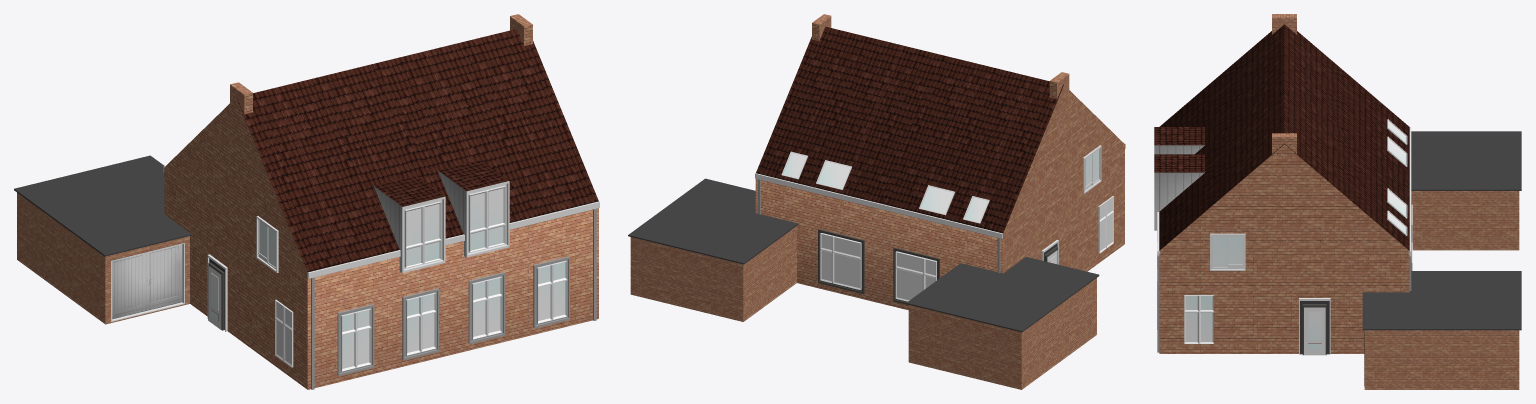
The model's file is Woning Hameie type 1.fbx.
3 views of the same model, side by side, from view 1: azimuth 30°, elevation 25°; view 2: azimuth 150°, elevation 25°; view 3: azimuth 270°, elevation 25° (orthographic). The views are drawn at different scales.
Visible parts, largest first — view 1: Woning_Hameie_type_1; view 2: Woning_Hameie_type_1; view 3: Woning_Hameie_type_1.
Boxes of the visible parts, bbox=[...] form: Woning_Hameie_type_1: bbox=[14, 14, 599, 389]; Woning_Hameie_type_1: bbox=[628, 14, 1125, 389]; Woning_Hameie_type_1: bbox=[1154, 14, 1521, 389].
Size of the model in its own units: 18.8 by 9.59 by 14.75.
Materials: 1 (1 with a texture image).
